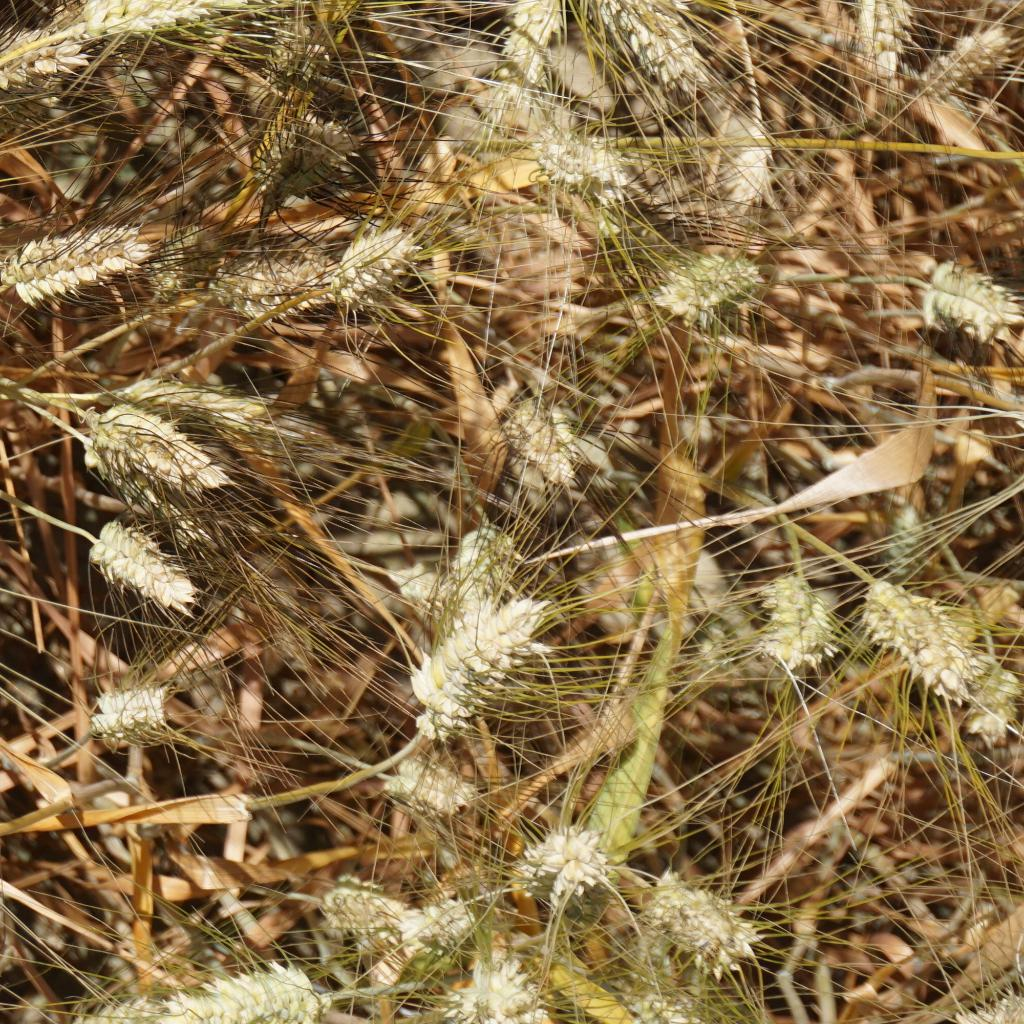0-0: (84, 963, 325, 1024), (414, 608, 555, 710), (743, 563, 844, 694), (14, 219, 148, 314), (113, 366, 286, 438), (246, 93, 359, 200), (864, 579, 971, 688), (643, 236, 778, 319), (73, 404, 203, 484), (650, 879, 760, 972), (90, 525, 203, 609), (906, 262, 1022, 343), (560, 0, 698, 67), (432, 508, 519, 612), (308, 222, 417, 305), (537, 132, 660, 204), (81, 0, 304, 38), (945, 640, 1024, 736), (704, 114, 784, 206), (526, 819, 617, 899), (929, 17, 1011, 100), (495, 0, 573, 87), (60, 430, 162, 494), (512, 398, 579, 492), (222, 243, 308, 314), (462, 957, 549, 1024), (867, 487, 930, 579), (86, 671, 166, 743), (148, 217, 209, 308), (843, 0, 915, 70), (0, 20, 70, 91), (328, 882, 404, 947), (269, 19, 329, 96), (391, 758, 465, 817), (415, 896, 492, 948), (0, 941, 16, 1009)
